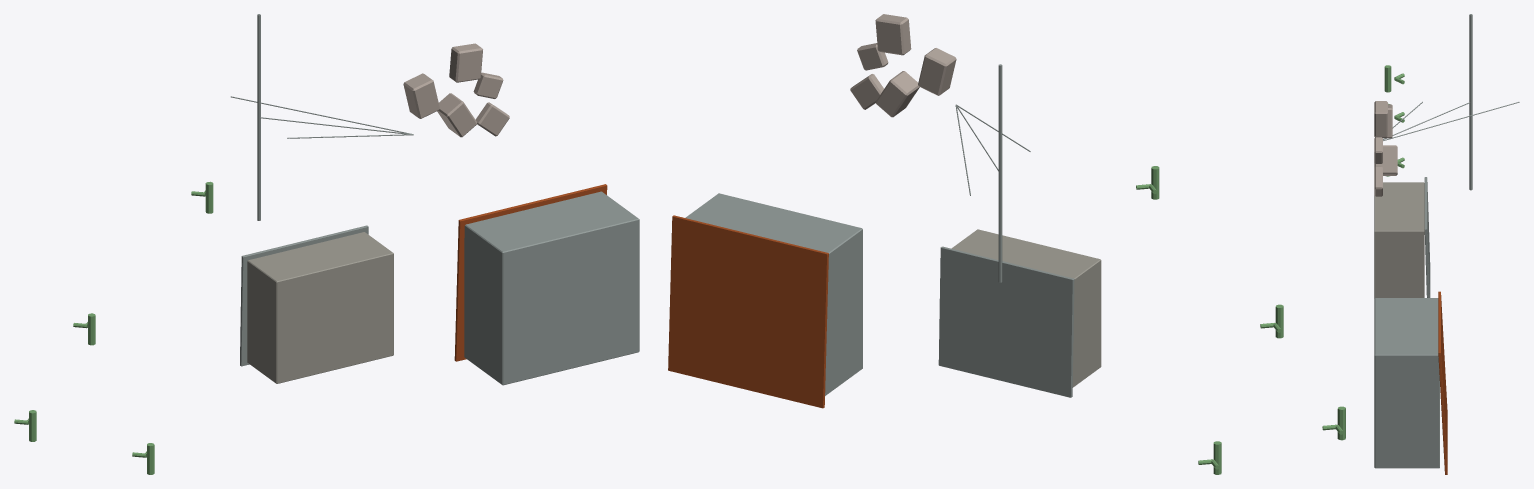
Rendered from pf_high_desert_station.glb.
3 renders of one model, left to right at view 1: azimuth 30°, elevation 25°; view 2: azimuth 150°, elevation 25°; view 3: azimuth 270°, elevation 25°, orthographic. The views are drawn at different scales.
Visible parts, largest first — view 1: test_hangar_wall, station_wall, test_hangar_roof, station_roof, rock_14_18_2, rock_14_18_1, rock_14_18_3, antenna_mast, rock_14_18_4; view 2: test_hangar_roof, station_roof, test_hangar_wall, station_wall, rock_14_18_2, rock_14_18_1, rock_14_18_3, antenna_mast, rock_14_18_4; view 3: test_hangar_wall, station_wall, test_hangar_roof, antenna_mast, station_roof, rock_14_18_1, rock_14_18_3, rock_14_18_4, rock_14_18_0, antenna_guy.002, cactus_trunk_2, rock_14_18_2.
Part boxes in pixels (box(x1,y1,x2,y2)): test_hangar_wall: box(464, 191, 639, 385); station_wall: box(247, 232, 393, 383); test_hangar_roof: box(454, 184, 607, 361); station_roof: box(240, 225, 368, 366); rock_14_18_2: box(403, 73, 439, 118); rock_14_18_1: box(449, 43, 482, 82); rock_14_18_3: box(437, 93, 477, 137); antenna_mast: box(257, 14, 260, 220); rock_14_18_4: box(475, 102, 509, 136); test_hangar_roof: box(668, 215, 828, 408); station_roof: box(938, 246, 1074, 397); test_hangar_wall: box(685, 193, 862, 395); station_wall: box(951, 229, 1101, 387); rock_14_18_2: box(918, 48, 956, 95); rock_14_18_1: box(875, 14, 911, 55); rock_14_18_3: box(875, 71, 919, 117); antenna_mast: box(998, 64, 1002, 282); rock_14_18_4: box(850, 74, 883, 109); test_hangar_wall: box(1374, 298, 1439, 468); station_wall: box(1374, 182, 1424, 298); test_hangar_roof: box(1438, 291, 1447, 474); antenna_mast: box(1469, 14, 1472, 190); station_roof: box(1424, 177, 1430, 297); rock_14_18_1: box(1374, 101, 1387, 137); rock_14_18_3: box(1374, 145, 1397, 175); rock_14_18_4: box(1374, 166, 1382, 196); rock_14_18_0: box(1374, 137, 1382, 163); antenna_guy.002: box(1383, 102, 1519, 140); cactus_trunk_2: box(1384, 65, 1391, 92); rock_14_18_2: box(1374, 104, 1392, 138).
Size of the model in its own units: 62.53 by 37.4 by 15.03.
